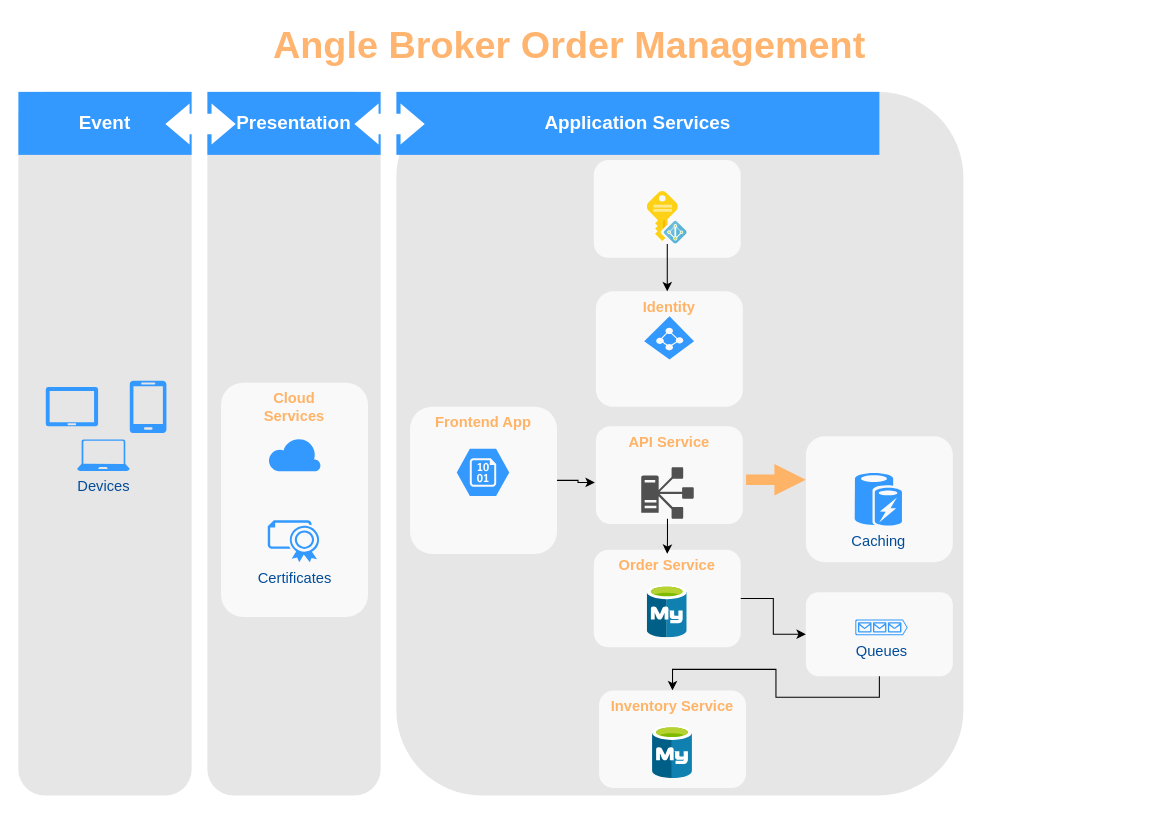
Some shapes in this 1149 by 813 pixel diagram are drawn without their labels. Here are the shapes that lost their labels. From the top down, the box of each, then its label:
(593, 160, 740, 257): OAuth
(644, 316, 694, 359): Profile DB
(268, 437, 320, 471): Cloud
(456, 448, 509, 496): Go App
(805, 436, 952, 562): Performance
(805, 592, 952, 676): Messaging
